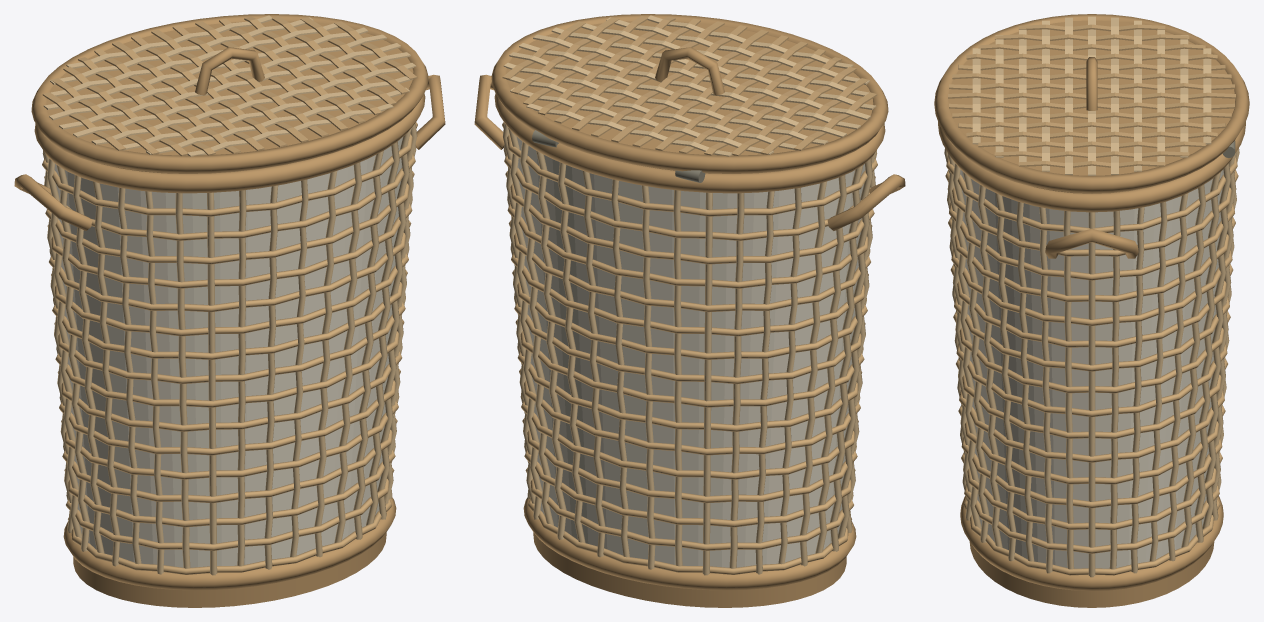
The model's file is hamper_wicker.glb.
The picture shows the model from 3 angles, left to right: view 1: azimuth 30°, elevation 25°; view 2: azimuth 150°, elevation 25°; view 3: azimuth 270°, elevation 25°; orthographic projection. The views are drawn at different scales.
Visible parts, largest first — view 1: Hamper linen inner lining, Hamper closed oval lid backing, Hamper lid bound edge, Hamper upper bound rim, Hamper lower bound rim, Hamper flat grounded oval bottom, Hamper horizontal woven course 15, Hamper vertical woven cane 23, Hamper horizontal woven course 13, Hamper horizontal woven course 12, Hamper vertical woven cane 24, Hamper horizontal woven course 11 (+57 smaller); view 2: Hamper linen inner lining, Hamper closed oval lid backing, Hamper lid bound edge, Hamper upper bound rim, Hamper lower bound rim, Hamper flat grounded oval bottom, Hamper horizontal woven course 15, Hamper vertical woven cane 13, Hamper horizontal woven course 13, Hamper horizontal woven course 12, Hamper vertical woven cane 12, Hamper horizontal woven course 11 (+57 smaller); view 3: Hamper linen inner lining, Hamper closed oval lid backing, Hamper lid bound edge, Hamper upper bound rim, Hamper lower bound rim, Hamper flat grounded oval bottom, Hamper vertical woven cane 00, Hamper vertical woven cane 05, Hamper vertical woven cane 31, Hamper vertical woven cane 06, Hamper vertical woven cane 30, Hamper vertical woven cane 02 (+55 smaller).
Boxes of the visible parts, x1,y1,x2,y2 form: Hamper linen inner lining: (54,137,402,567); Hamper closed oval lid backing: (46,20,413,173); Hamper lid bound edge: (31,14,428,173); Hamper upper bound rim: (34,93,425,193); Hamper lower bound rim: (63,497,396,590); Hamper flat grounded oval bottom: (73,532,386,607); Hamper horizontal woven course 15: (42,122,417,216); Hamper vertical woven cane 23: (175,193,190,568); Hamper horizontal woven course 13: (45,171,414,264); Hamper horizontal woven course 12: (47,203,412,288); Hamper vertical woven cane 24: (207,192,217,575); Hamper horizontal woven course 11: (49,220,411,312); Hamper linen inner lining: (517,137,865,567); Hamper closed oval lid backing: (506,20,873,173); Hamper lid bound edge: (491,14,888,173); Hamper upper bound rim: (494,93,885,193); Hamper lower bound rim: (523,497,856,590); Hamper flat grounded oval bottom: (533,532,846,607); Hamper horizontal woven course 15: (502,122,877,216); Hamper vertical woven cane 13: (729,193,744,568); Hamper horizontal woven course 13: (505,171,874,264); Hamper horizontal woven course 12: (507,203,872,288); Hamper vertical woven cane 12: (702,192,712,575); Hamper horizontal woven course 11: (508,220,870,312); Hamper linen inner lining: (960,170,1223,568); Hamper closed oval lid backing: (948,20,1235,193); Hamper lid bound edge: (934,14,1249,193); Hamper upper bound rim: (938,122,1245,212); Hamper lower bound rim: (960,496,1223,591); Hamper flat grounded oval bottom: (969,542,1214,607); Hamper vertical woven cane 00: (1088,212,1095,577); Hamper vertical woven cane 05: (1181,184,1205,547); Hamper vertical woven cane 31: (978,184,1002,547); Hamper vertical woven cane 06: (1194,172,1220,542); Hamper vertical woven cane 30: (963,172,989,542); Hamper vertical woven cane 02: (1130,207,1144,573).
Size of the model in its own units: 0.6486 by 0.7369 by 0.438.
